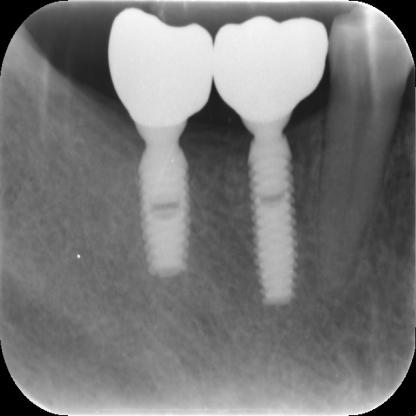Bicon: (249, 129, 300, 311), (134, 138, 194, 276)
